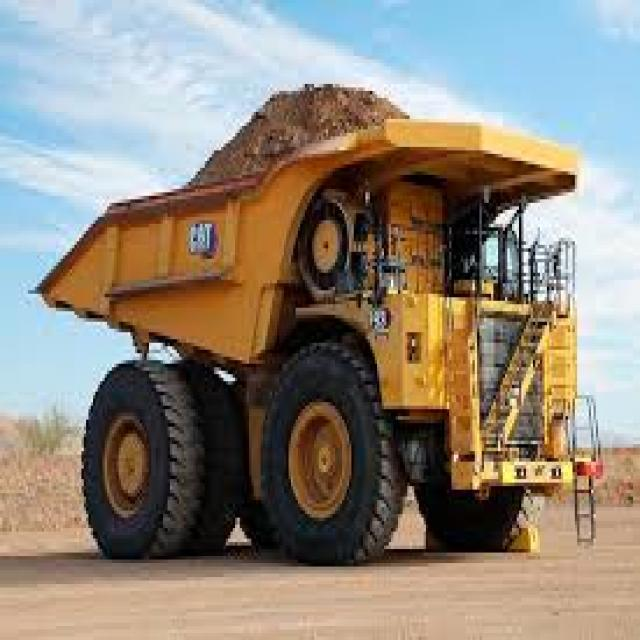truck: (27, 61, 609, 604)
